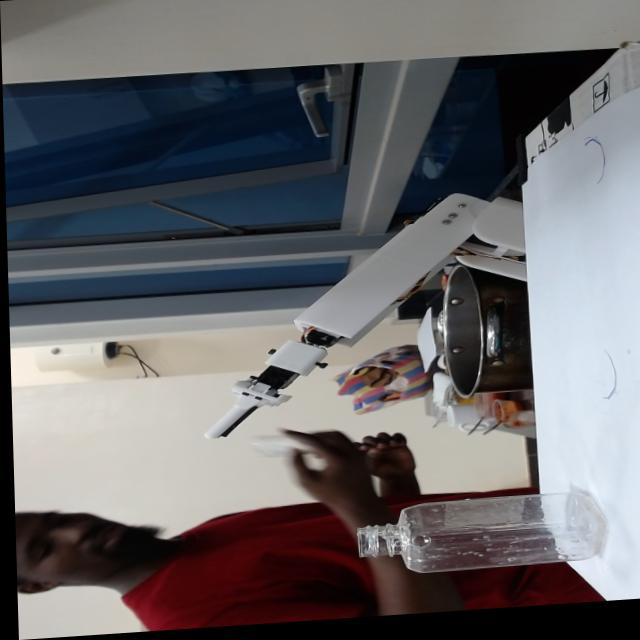cooking_pot: (432, 270, 532, 413)
water: (404, 494, 609, 575)
